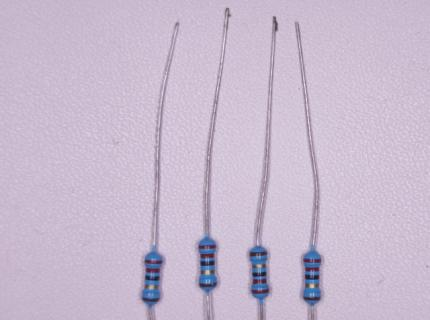Black band: (305, 274, 320, 280), (145, 275, 160, 281), (252, 272, 267, 277), (200, 261, 215, 266)
Brown band: (249, 251, 268, 257), (198, 282, 217, 288), (142, 296, 161, 302), (302, 296, 321, 301)
Gold band: (200, 269, 215, 275), (304, 283, 320, 288), (144, 284, 159, 289), (252, 264, 267, 269)
Red band: (251, 288, 270, 294), (303, 257, 322, 263), (145, 259, 163, 264), (252, 278, 267, 284), (305, 266, 320, 272), (146, 267, 160, 273), (198, 245, 217, 249), (200, 253, 215, 258)
